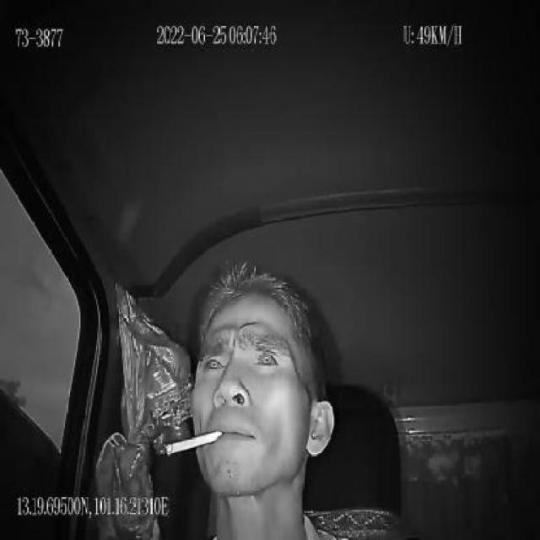smoking: (163, 428, 225, 460)
